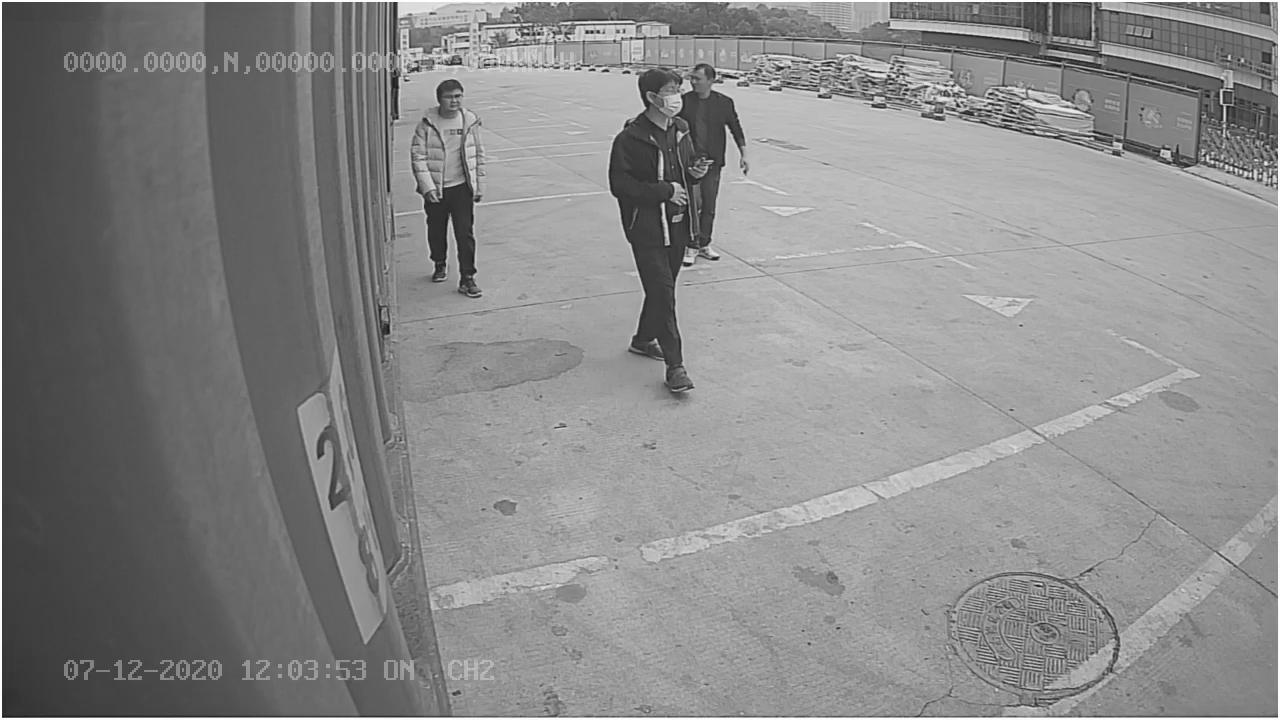person: (410, 80, 487, 299)
